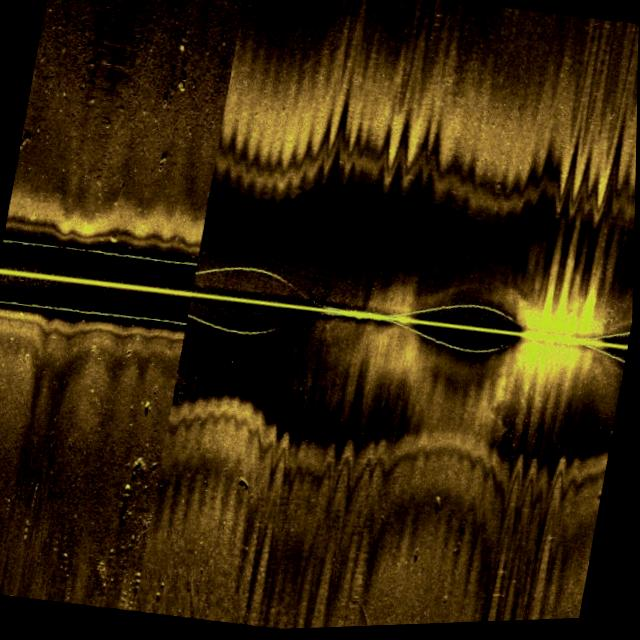mine: (236, 474, 255, 497)
